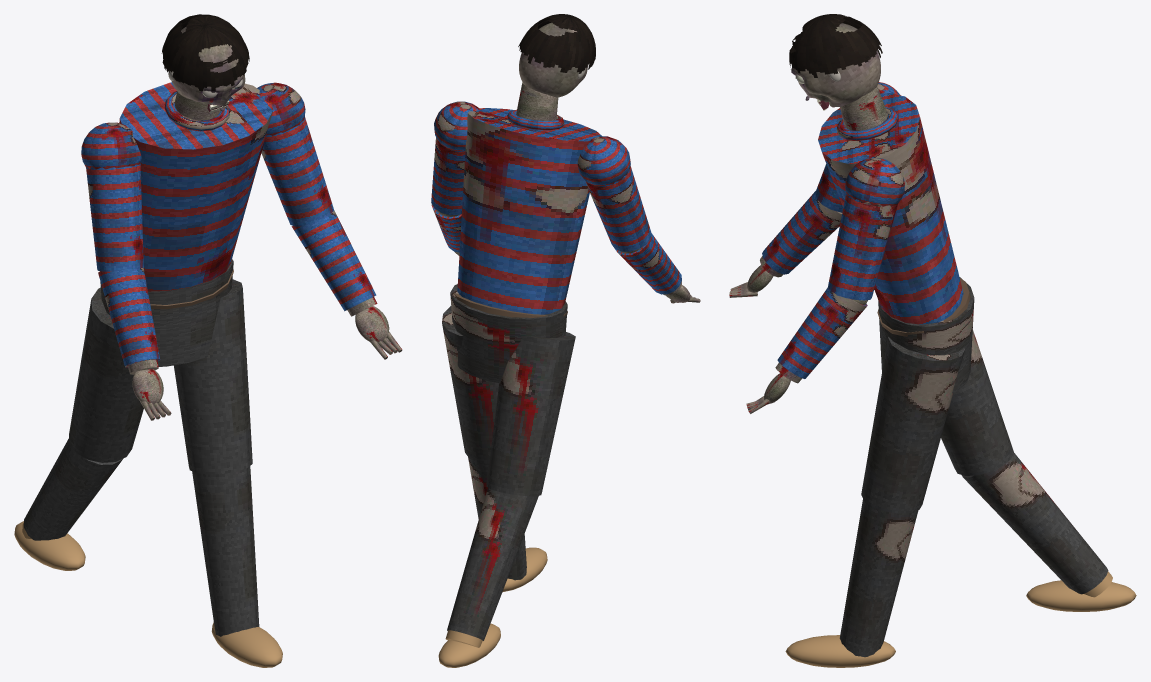
The model's file is Zombie_145.glb.
3 views of the same model, side by side, from view 1: azimuth 30°, elevation 25°; view 2: azimuth 150°, elevation 25°; view 3: azimuth 270°, elevation 25° (orthographic). The views are drawn at different scales.
Parts seen in each view (by area): view 1: Zombie_145, object 45, object 4, object 12, object 18, object 13, object 5; view 2: Zombie_145, object 45, object 18, object 4, object 12, object 44; view 3: Zombie_145, object 45, object 12, object 4, object 18.
Part boxes in pixels (x1=…): Zombie_145: x1=14, y1=82, x2=334, y2=667; object 45: x1=161, y1=14, x2=249, y2=90; object 4: x1=98, y1=268, x2=160, y2=367; object 12: x1=291, y1=210, x2=376, y2=311; object 18: x1=171, y1=27, x2=245, y2=106; object 13: x1=355, y1=306, x2=389, y2=342; object 5: x1=132, y1=369, x2=163, y2=404; Zombie_145: x1=431, y1=82, x2=651, y2=667; object 45: x1=518, y1=14, x2=595, y2=71; object 18: x1=519, y1=22, x2=588, y2=97; object 4: x1=615, y1=233, x2=681, y2=294; object 12: x1=431, y1=204, x2=461, y2=252; object 44: x1=519, y1=19, x2=591, y2=73; Zombie_145: x1=785, y1=82, x2=1136, y2=667; object 45: x1=789, y1=14, x2=882, y2=74; object 12: x1=777, y1=287, x2=867, y2=378; object 4: x1=762, y1=191, x2=842, y2=274; object 18: x1=791, y1=23, x2=880, y2=107.
Size of the model in its own units: 0.7184 by 1.7 by 1.
Materials: 16 (6 with a texture image).
